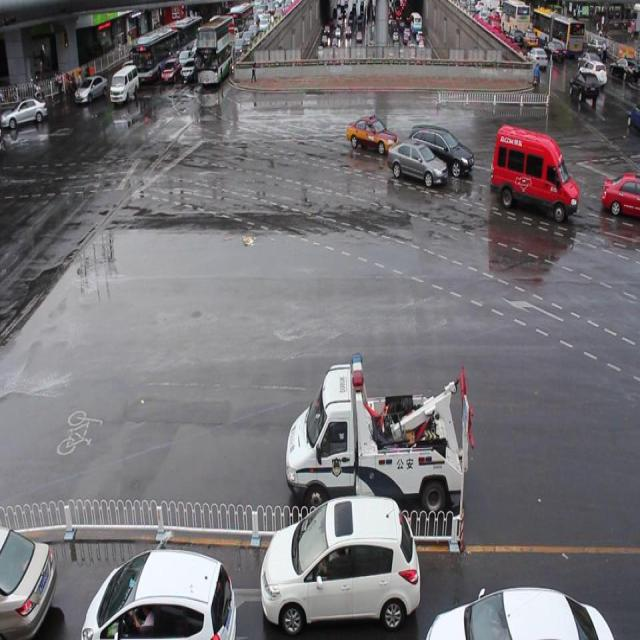bus: (284, 345, 472, 517)
car: (260, 493, 422, 633), (82, 547, 236, 640), (427, 583, 613, 640), (1, 519, 57, 640), (408, 121, 472, 175), (386, 137, 448, 183), (344, 112, 396, 150), (600, 172, 640, 216)
truck: (490, 119, 576, 218)
